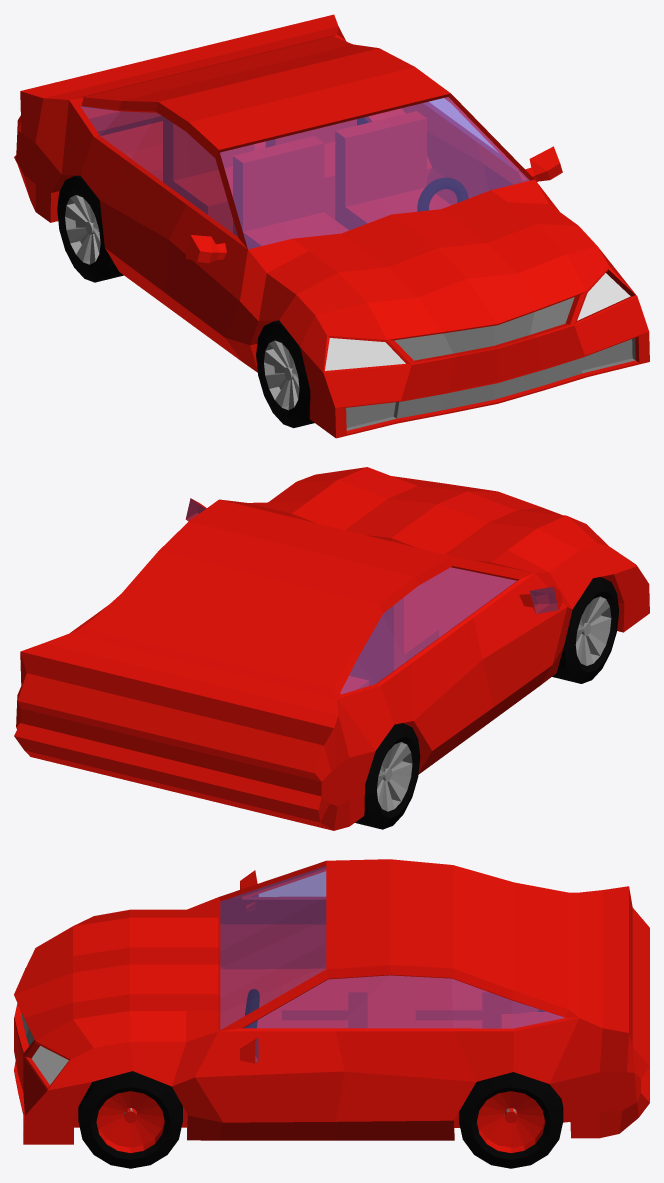
The model's file is car.fbx.
3 renders of one model, top to bottom at view 1: azimuth 30°, elevation 25°; view 2: azimuth 150°, elevation 25°; view 3: azimuth 270°, elevation 25°, orthographic. The views are drawn at different scales.
Visible parts, largest first — view 1: Car, Wheel FR, Wheel BR, Torus; view 2: Car, Wheel FR, Wheel BR; view 3: Car, Wheel FL, Wheel BL.
Boxes of the visible parts, x1,y1,x2,y2 form: Car: (14, 14, 649, 438); Wheel FR: (256, 320, 314, 428); Wheel BR: (57, 175, 123, 282); Torus: (417, 177, 468, 211); Car: (14, 467, 649, 830); Wheel FR: (552, 577, 618, 683); Wheel BR: (355, 723, 420, 829); Car: (14, 859, 649, 1144); Wheel FL: (78, 1071, 182, 1168); Wheel BL: (459, 1072, 563, 1168).
Bounding box in the file's own units: 284 × 140 × 438.
